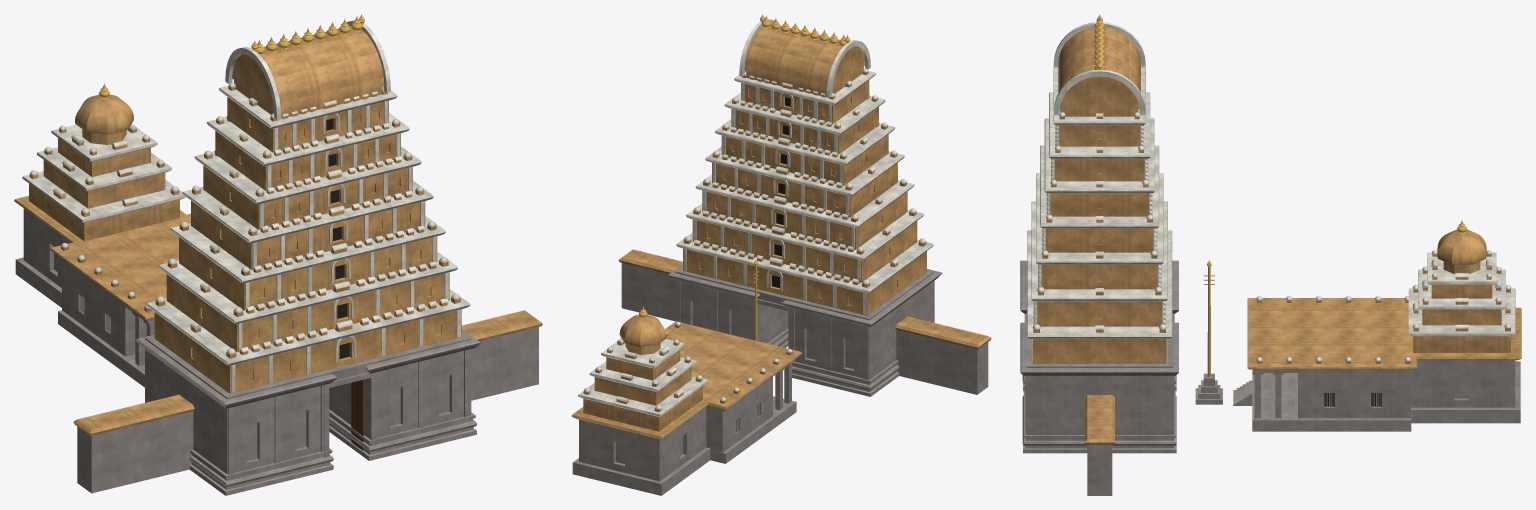
File: gopuram.glb
The picture shows the model from 3 angles, left to right: view 1: azimuth 30°, elevation 25°; view 2: azimuth 150°, elevation 25°; view 3: azimuth 270°, elevation 25°; orthographic projection. The views are drawn at different scales.
Parts seen in each view (by area): view 1: Gopuram tiers, Tier cornices, Gopuram base, Enclosure walls, Base mouldings, Vimana tiers, Mandapa, Crown, Tier shrines, Tier ornament, Vimana, Vimana dome (+2 smaller); view 2: Gopuram tiers, Tier cornices, Gopuram base, Mandapa, Enclosure walls, Vimana, Vimana tiers, Tier shrines, Crown, Base mouldings, Tier ornament, Vimana dome (+2 smaller); view 3: Mandapa, Gopuram tiers, Tier cornices, Gopuram base, Vimana, Vimana tiers, Crown, Base mouldings, Tier shrines, Enclosure walls, Vimana dome, Flagstaff (+2 smaller).
Part boxes in pixels (x1,y1,x2,y2): Gopuram tiers: (154, 97, 461, 393); Tier cornices: (146, 86, 470, 365); Gopuram base: (145, 331, 471, 474); Enclosure walls: (73, 310, 542, 493); Base mouldings: (135, 329, 480, 495); Vimana tiers: (22, 124, 185, 241); Mandapa: (50, 213, 190, 387); Crown: (225, 20, 390, 119); Tier shrines: (29, 82, 460, 358); Tier ornament: (231, 101, 460, 392); Vimana: (14, 196, 190, 307); Vimana dome: (75, 94, 133, 134); Gopuram tiers: (683, 80, 926, 315); Tier cornices: (676, 71, 933, 293); Gopuram base: (675, 266, 934, 379); Mandapa: (665, 321, 802, 463); Enclosure walls: (618, 249, 991, 394); Vimana: (571, 395, 714, 495); Vimana tiers: (578, 339, 708, 431); Tier shrines: (583, 68, 926, 412); Crown: (739, 19, 870, 97); Base mouldings: (668, 264, 941, 396); Tier ornament: (683, 83, 866, 314); Vimana dome: (619, 315, 666, 346); Mandapa: (1233, 298, 1417, 431); Gopuram tiers: (1033, 125, 1166, 363); Tier cornices: (1027, 67, 1172, 338); Gopuram base: (1026, 260, 1172, 434); Vimana: (1403, 307, 1521, 423); Vimana tiers: (1408, 252, 1515, 352); Crown: (1053, 22, 1145, 116); Base mouldings: (1020, 260, 1178, 453); Tier shrines: (1032, 109, 1511, 363); Enclosure walls: (1084, 395, 1114, 495); Vimana dome: (1437, 229, 1486, 264); Flagstaff: (1195, 267, 1222, 404).
Bounding box in the file's own units: 44.5 × 38.23 × 48.
7 materials, 7 textured.
